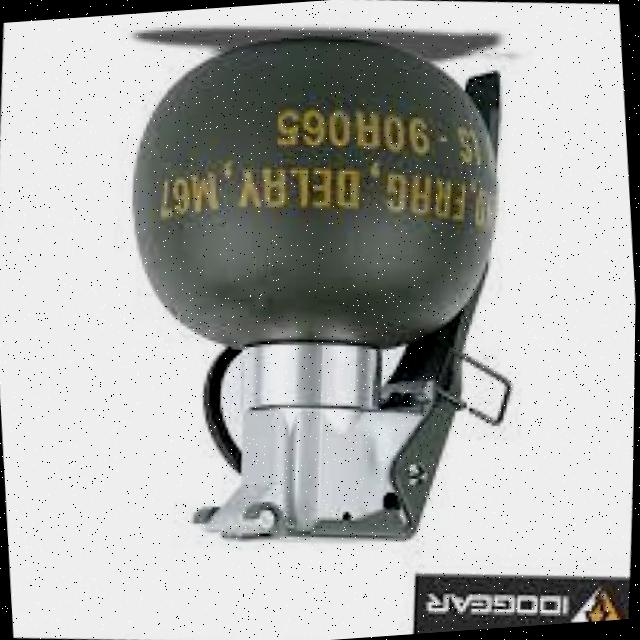grenade: (80, 6, 560, 586)
